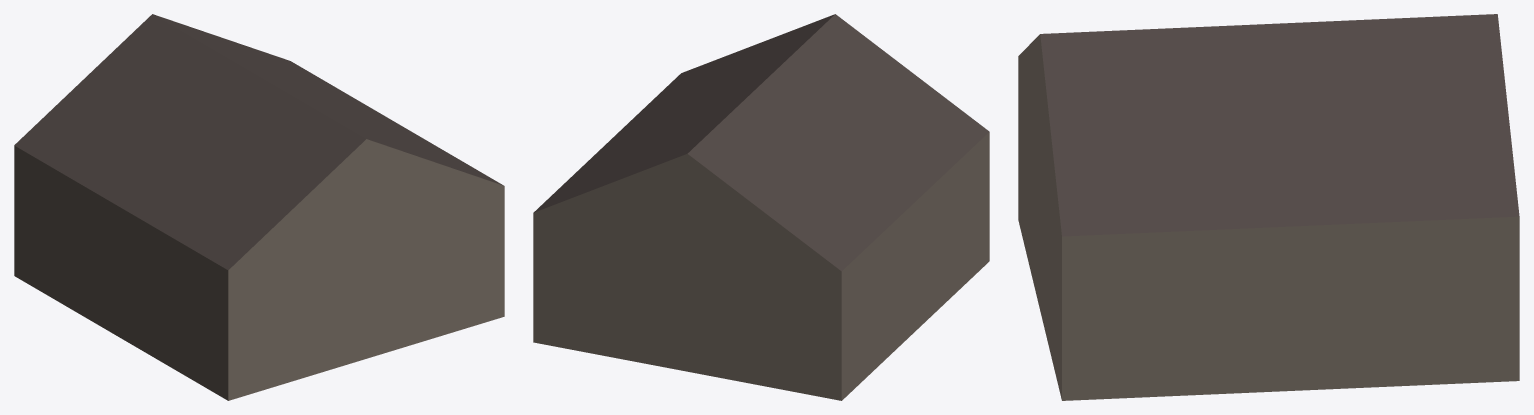
3 renders of one model, left to right at view 1: azimuth 30°, elevation 25°; view 2: azimuth 150°, elevation 25°; view 3: azimuth 270°, elevation 25°, orthographic. The views are drawn at different scales.
Visible parts, largest first — view 1: HP-w1200756562; view 2: HP-w1200756562; view 3: HP-w1200756562.
Boxes of the visible parts, left/top/right/bottom form: HP-w1200756562: left=14, top=14, right=504, bottom=400; HP-w1200756562: left=533, top=14, right=989, bottom=400; HP-w1200756562: left=1018, top=14, right=1519, bottom=400.
Bounding box in the file's own units: 15.69 × 10.1 × 16.58.
